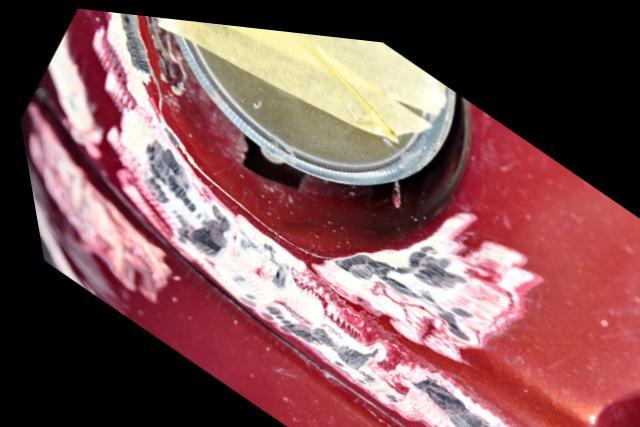scratch: (16, 7, 538, 427)
